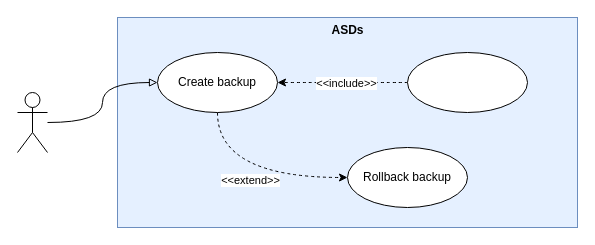
Some shapes in this 595 by 245 pixel diagram are drawn without their labels. Here are the shapes that lost their labels. From the top down, the centre of each, then its label:
At pixel 467 82: "Error handler".
At pixel 32 122: "User".
